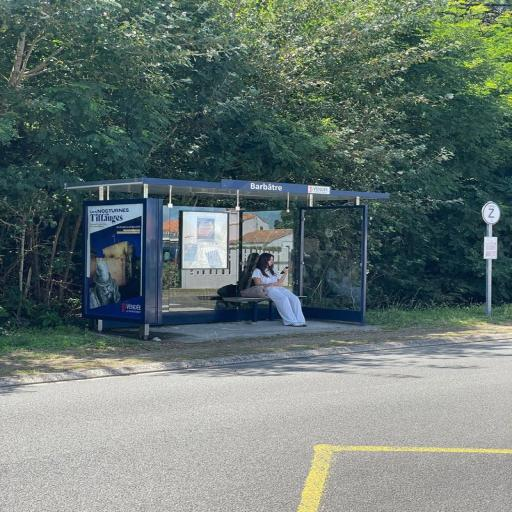bicycle: (56, 164, 398, 349)
crosswalk: (242, 248, 314, 328)
glass_wall: (0, 331, 512, 512)
